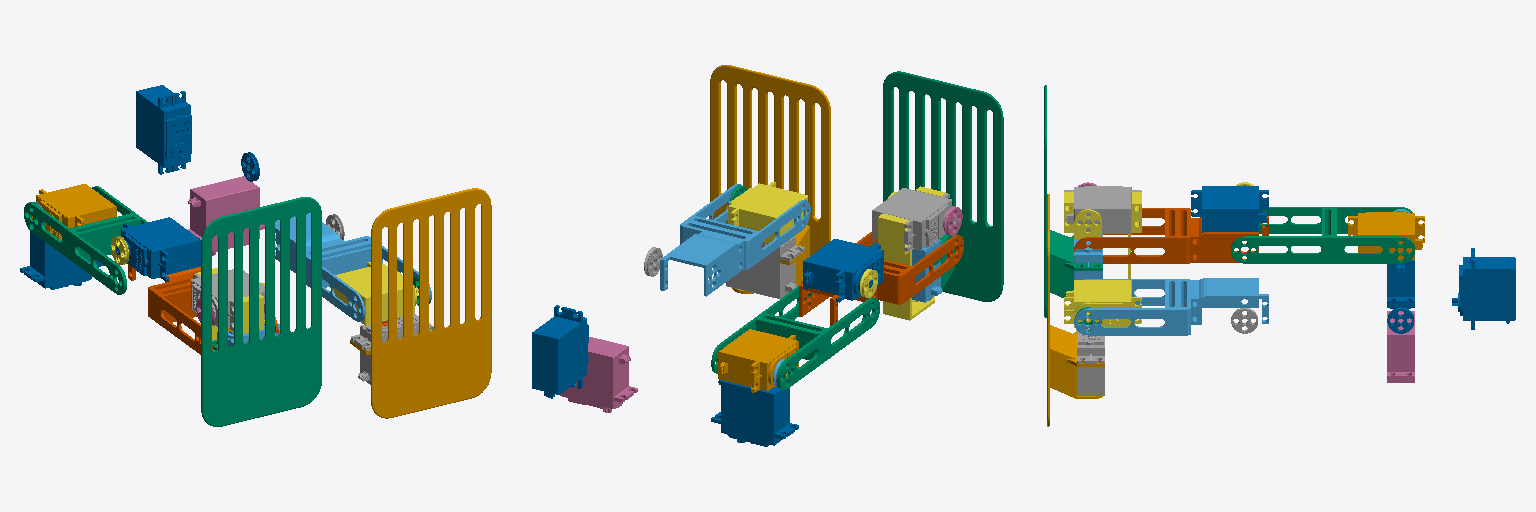
--- What the picture shows (computed from the rendered views, not written in the file) ---
The picture shows the robot from 3 angles, left to right: view 1: azimuth 30°, elevation 25°; view 2: azimuth 150°, elevation 25°; view 3: azimuth 270°, elevation 25°; orthographic projection.
Robot: COM — 37 links, 36 joints (12 revolute, 24 fixed); root link base_link; default pose: all joints at 0.
Links seen in each view (by area): view 1: puru_returns_Component1_mirror_v11, puru_returns_Component1_v21, New_Component_v21Component171, servo_v1_11, puru_returns_Component3_Copy_mirror_v11, servo_v1_51, servo_v1_31, puru_returns_Component3_Copy_v11, servo_v1_41, servo_v1_21, servo_v1_101, servo_v1_61 (+2 smaller); view 2: puru_returns_Component1_v21, puru_returns_Component1_mirror_v11, puru_returns_Component3_Copy_mirror_v11, New_Component_v21Component171, servo_v1_11, servo_v1_21, puru_returns_Component3_Copy_v11, servo_v1_51, servo_v1_41, servo_v1_31, servo_v1_61, servo_v1_101 (+3 smaller); view 3: puru_returns_Component3_Copy_mirror_v11, New_Component_v21Component171, puru_returns_Component3_Copy_v11, servo_v1_11, servo_v1_51, puru_returns_Component1_mirror_v11, puru_returns_Component1_v21, servo_v1_61, servo_v1_101, servo_v1_41, servo_v1_111, servo_v1_31 (+3 smaller).
Link boxes in pixels (x1=…): puru_returns_Component1_mirror_v11: x1=350, y1=188, x2=491, y2=418; puru_returns_Component1_v21: x1=201, y1=197, x2=321, y2=426; New_Component_v21Component171: x1=24, y1=186, x2=147, y2=294; servo_v1_11: x1=136, y1=85, x2=191, y2=174; puru_returns_Component3_Copy_mirror_v11: x1=275, y1=213, x2=431, y2=321; servo_v1_51: x1=116, y1=217, x2=200, y2=280; servo_v1_31: x1=188, y1=176, x2=264, y2=255; puru_returns_Component3_Copy_v11: x1=128, y1=264, x2=278, y2=354; servo_v1_41: x1=31, y1=184, x2=116, y2=240; servo_v1_21: x1=20, y1=231, x2=103, y2=289; servo_v1_101: x1=334, y1=262, x2=418, y2=325; servo_v1_61: x1=191, y1=269, x2=264, y2=330; puru_returns_Component1_v21: x1=870, y1=71, x2=1003, y2=301; puru_returns_Component1_mirror_v11: x1=710, y1=65, x2=830, y2=293; puru_returns_Component3_Copy_mirror_v11: x1=660, y1=184, x2=810, y2=296; New_Component_v21Component171: x1=711, y1=286, x2=879, y2=389; servo_v1_11: x1=532, y1=305, x2=588, y2=398; servo_v1_21: x1=711, y1=380, x2=798, y2=446; puru_returns_Component3_Copy_v11: x1=799, y1=232, x2=963, y2=325; servo_v1_51: x1=803, y1=239, x2=883, y2=302; servo_v1_41: x1=718, y1=329, x2=798, y2=392; servo_v1_31: x1=560, y1=337, x2=637, y2=412; servo_v1_61: x1=872, y1=188, x2=956, y2=251; servo_v1_101: x1=728, y1=182, x2=807, y2=243; puru_returns_Component3_Copy_mirror_v11: x1=1074, y1=278, x2=1268, y2=335; New_Component_v21Component171: x1=1231, y1=207, x2=1414, y2=263; puru_returns_Component3_Copy_v11: x1=1074, y1=208, x2=1268, y2=263; servo_v1_11: x1=1452, y1=248, x2=1515, y2=329; servo_v1_51: x1=1191, y1=185, x2=1268, y2=232; puru_returns_Component1_mirror_v11: x1=1047, y1=194, x2=1104, y2=426; puru_returns_Component1_v21: x1=1044, y1=85, x2=1102, y2=317; servo_v1_61: x1=1064, y1=186, x2=1141, y2=233; servo_v1_101: x1=1064, y1=280, x2=1141, y2=327; servo_v1_41: x1=1348, y1=212, x2=1424, y2=259; servo_v1_111: x1=1077, y1=328, x2=1104, y2=395; servo_v1_31: x1=1387, y1=311, x2=1414, y2=382.
Size in the robot's own frame: 0.2179 by 0.3312 by 0.1744 metres.
23 mesh visuals loaded from 37 distinct referenced files (23 binary STL); not drawn: 14 (reference not matched to a file when rendering).

robot.urdf — COM:
<?xml version="1.0" ?>
<robot name="COM">

<material name="silver">
  <color rgba="0.700 0.700 0.700 1.000"/>
</material>

<link name="base_link">
  <inertial>
    <origin rpy="0 0 0" xyz="0.049426872993293534 -0.05856788394564916 0.014469977603933622"/>
    <mass value="6.087495213581755"/>
    <inertia ixx="0.01478590284265107" ixy="-0.00011943604355989582" ixz="4.0528118599583024e-05" iyy="0.027826181686333544" iyz="0.0006996436301212553" izz="0.03368371018690616"/>
  </inertial>
  <visual>
    <origin rpy="0 0 0" xyz="0 0 0"/>
    <geometry>
      <mesh filename="meshes/base_link.stl" scale="0.001 0.001 0.001"/>
    </geometry>
    <material name="silver"/>
    <material/>
  </visual>
  <collision concave="yes">
    <origin rpy="0 0 0" xyz="0 0 0"/>
    <geometry>
      <mesh filename="meshes/base_link.stl" scale="0.001 0.001 0.001"/>
    </geometry>
  </collision>
</link>

<link name="darwin_SP0-5_Dfaut_v1_11">
  <inertial>
    <origin rpy="0 0 0" xyz="-3.801167810790762e-07 0.0014997351662962843 -7.013422203064335e-08"/>
    <mass value="0.00403268334001312"/>
    <inertia ixx="9.40413563103198e-08" ixy="0.0" ixz="1.6940658945086007e-21" iyy="1.8171957172162913e-07" iyz="-1.8295911660692887e-19" izz="9.404135767055984e-08"/>
  </inertial>
  <visual>
    <origin rpy="0 0 0" xyz="-0.099046 0.153968 -0.021175"/>
    <geometry>
      <mesh filename="meshes/darwin_SP0-5_Dfaut_v1_11.stl" scale="0.001 0.001 0.001"/>
    </geometry>
    <material name="silver"/>
    <material/>
  </visual>
  <collision concave="yes">
    <origin rpy="0 0 0" xyz="-0.099046 0.153968 -0.021175"/>
    <geometry>
      <mesh filename="meshes/darwin_SP0-5_Dfaut_v1_11.stl" scale="0.001 0.001 0.001"/>
    </geometry>
  </collision>
</link>

<link name="darwin_SP0-5_Dfaut_v11">
  <inertial>
    <origin rpy="0 0 0" xyz="-3.8011678041597816e-07 0.0014997329912126434 -7.013422255106039e-08"/>
    <mass value="0.00403268334001312"/>
    <inertia ixx="9.40413563103198e-08" ixy="0.0" ixz="1.852884572118782e-22" iyy="1.8171957172164184e-07" iyz="-1.7787691892340307e-19" izz="9.404135767061405e-08"/>
  </inertial>
  <visual>
    <origin rpy="0 0 0" xyz="0.000954 0.153968 -0.021175"/>
    <geometry>
      <mesh filename="meshes/darwin_SP0-5_Dfaut_v11.stl" scale="0.001 0.001 0.001"/>
    </geometry>
    <material name="silver"/>
    <material/>
  </visual>
  <collision concave="yes">
    <origin rpy="0 0 0" xyz="0.000954 0.153968 -0.021175"/>
    <geometry>
      <mesh filename="meshes/darwin_SP0-5_Dfaut_v11.stl" scale="0.001 0.001 0.001"/>
    </geometry>
  </collision>
</link>

<link name="darwin_SP0-5_Dfaut_v1_21">
  <inertial>
    <origin rpy="0 0 0" xyz="-0.006000380116780482 2.337932812623844e-07 0.0015001048247358859"/>
    <mass value="0.00403268334001312"/>
    <inertia ixx="9.404135631029269e-08" ixy="-2.117582368135751e-22" ixz="0.0" iyy="9.404135767058864e-08" iyz="-1.7957098481791167e-19" izz="1.8171957172168334e-07"/>
  </inertial>
  <visual>
    <origin rpy="0 0 0" xyz="-0.005046 0.1896 0.034899"/>
    <geometry>
      <mesh filename="meshes/darwin_SP0-5_Dfaut_v1_21.stl" scale="0.001 0.001 0.001"/>
    </geometry>
    <material name="silver"/>
    <material/>
  </visual>
  <collision concave="yes">
    <origin rpy="0 0 0" xyz="-0.005046 0.1896 0.034899"/>
    <geometry>
      <mesh filename="meshes/darwin_SP0-5_Dfaut_v1_21.stl" scale="0.001 0.001 0.001"/>
    </geometry>
  </collision>
</link>

<link name="servo_v1_21">
  <inertial>
    <origin rpy="0 0 0" xyz="-0.009021322027019007 -0.03189873611224242 0.21507652859351006"/>
    <mass value="0.2525811539773393"/>
    <inertia ixx="4.0628291142298656e-05" ixy="-8.622513412905736e-11" ixz="5.060799491813541e-07" iyy="6.818318895881881e-05" iyz="3.2885922956159275e-10" izz="4.40963468847852e-05"/>
  </inertial>
  <visual>
    <origin rpy="0 0 0" xyz="0.001909 0.157701 0.222999"/>
    <geometry>
      <mesh filename="meshes/servo_v1_21.stl" scale="0.001 0.001 0.001"/>
    </geometry>
    <material name="silver"/>
    <material/>
  </visual>
  <collision concave="yes">
    <origin rpy="0 0 0" xyz="0.001909 0.157701 0.222999"/>
    <geometry>
      <mesh filename="meshes/servo_v1_21.stl" scale="0.001 0.001 0.001"/>
    </geometry>
  </collision>
</link>

<link name="darwin_SP0-5_Dfaut_v1_31">
  <inertial>
    <origin rpy="0 0 0" xyz="-0.006000380116781057 2.359683649033606e-07 0.0015001048247363091"/>
    <mass value="0.00403268334001312"/>
    <inertia ixx="9.404135631026558e-08" ixy="0.0" ixz="0.0" iyy="9.404135767058694e-08" iyz="-1.7618285302889447e-19" izz="1.8171957172165624e-07"/>
  </inertial>
  <visual>
    <origin rpy="0 0 0" xyz="-0.105046 0.1896 0.034899"/>
    <geometry>
      <mesh filename="meshes/darwin_SP0-5_Dfaut_v1_31.stl" scale="0.001 0.001 0.001"/>
    </geometry>
    <material name="silver"/>
    <material/>
  </visual>
  <collision concave="yes">
    <origin rpy="0 0 0" xyz="-0.105046 0.1896 0.034899"/>
    <geometry>
      <mesh filename="meshes/darwin_SP0-5_Dfaut_v1_31.stl" scale="0.001 0.001 0.001"/>
    </geometry>
  </collision>
</link>

<link name="servo_v1_31">
  <inertial>
    <origin rpy="0 0 0" xyz="-0.08906943820654246 -0.03189879412565988 0.21332652859351048"/>
    <mass value="0.2525811539773393"/>
    <inertia ixx="4.062829114230039e-05" ixy="-8.62251338037967e-11" ixz="-5.060799491814422e-07" iyy="6.818318895881852e-05" iyz="-3.288592298326433e-10" izz="4.40963468847852e-05"/>
  </inertial>
  <visual>
    <origin rpy="0 0 0" xyz="-0.198091 0.157701 0.222999"/>
    <geometry>
      <mesh filename="meshes/servo_v1_31.stl" scale="0.001 0.001 0.001"/>
    </geometry>
    <material name="silver"/>
    <material/>
  </visual>
  <collision concave="yes">
    <origin rpy="0 0 0" xyz="-0.198091 0.157701 0.222999"/>
    <geometry>
      <mesh filename="meshes/servo_v1_31.stl" scale="0.001 0.001 0.001"/>
    </geometry>
  </collision>
</link>

<link name="New_comp_v31">
  <inertial>
    <origin rpy="0 0 0" xyz="0.02712760280916824 -0.00739501977821197 0.025150828643777975"/>
    <mass value="0.09272661140293506"/>
    <inertia ixx="5.0412790144149875e-05" ixy="1.3253400060312694e-06" ixz="-5.403142625515372e-06" iyy="5.7509785676170845e-05" iyz="1.0330125334125529e-05" izz="4.581305763172146e-05"/>
  </inertial>
  <visual>
    <origin rpy="0 0 0" xyz="0.035532 0.18373 0.016839"/>
    <geometry>
      <mesh filename="meshes/New_comp_v31.stl" scale="0.001 0.001 0.001"/>
    </geometry>
    <material name="silver"/>
    <material/>
  </visual>
  <collision concave="yes">
    <origin rpy="0 0 0" xyz="0.035532 0.18373 0.016839"/>
    <geometry>
      <mesh filename="meshes/New_comp_v31.stl" scale="0.001 0.001 0.001"/>
    </geometry>
  </collision>
</link>

<link name="servo_v1_41">
  <inertial>
    <origin rpy="0 0 0" xyz="0.008916028988444513 -0.024198637539689233 -0.005869710576260234"/>
    <mass value="0.2525811539773393"/>
    <inertia ixx="4.409634688478346e-05" ixy="5.060799491812796e-07" ixz="3.288592297038943e-10" iyy="4.062829114230028e-05" iyz="-8.622513467115844e-11" izz="6.818318895881678e-05"/>
  </inertial>
  <visual>
    <origin rpy="0 0 0" xyz="0.017839 0.175379 -0.028206"/>
    <geometry>
      <mesh filename="meshes/servo_v1_41.stl" scale="0.001 0.001 0.001"/>
    </geometry>
    <material name="silver"/>
    <material/>
  </visual>
  <collision concave="yes">
    <origin rpy="0 0 0" xyz="0.017839 0.175379 -0.028206"/>
    <geometry>
      <mesh filename="meshes/servo_v1_41.stl" scale="0.001 0.001 0.001"/>
    </geometry>
  </collision>
</link>

<link name="darwin_SP0-5_Dfaut_v1_41">
  <inertial>
    <origin rpy="0 0 0" xyz="-0.03376639478032952 -0.023971695629450396 -0.18960174067028493"/>
    <mass value="0.00403268334001312"/>
    <inertia ixx="1.8171957172165624e-07" ixy="0.0" ixz="-1.7745340244977592e-19" iyy="9.404135631031302e-08" iyz="0.0" izz="9.404135767061405e-08"/>
  </inertial>
  <visual>
    <origin rpy="0 0 0" xyz="-0.002117 0.16563 -0.211938"/>
    <geometry>
      <mesh filename="meshes/darwin_SP0-5_Dfaut_v1_41.stl" scale="0.001 0.001 0.001"/>
    </geometry>
    <material name="silver"/>
    <material/>
  </visual>
  <collision concave="yes">
    <origin rpy="0 0 0" xyz="-0.002117 0.16563 -0.211938"/>
    <geometry>
      <mesh filename="meshes/darwin_SP0-5_Dfaut_v1_41.stl" scale="0.001 0.001 0.001"/>
    </geometry>
  </collision>
</link>

<link name="New_Component_v21Component171">
  <inertial>
    <origin rpy="0 0 0" xyz="0.022246779577698293 -0.05224965878978241 0.005981862948394902"/>
    <mass value="0.12057690606604259"/>
    <inertia ixx="9.059967566987966e-05" ixy="-3.3675587649521646e-07" ixz="5.060593844609428e-11" iyy="5.5083470425859116e-05" iyz="-1.2191716247753753e-07" izz="0.0001364974799907331"/>
  </inertial>
  <visual>
    <origin rpy="0 0 0" xyz="0.033149 0.189602 -0.016336"/>
    <geometry>
      <mesh filename="meshes/New_Component_v21Component171.stl" scale="0.001 0.001 0.001"/>
    </geometry>
    <material name="silver"/>
    <material/>
  </visual>
  <collision concave="yes">
    <origin rpy="0 0 0" xyz="0.033149 0.189602 -0.016336"/>
    <geometry>
      <mesh filename="meshes/New_Component_v21Component171.stl" scale="0.001 0.001 0.001"/>
    </geometry>
  </collision>
</link>

<link name="darwin_SP0-5_Dfaut_v1_51">
  <inertial>
    <origin rpy="0 0 0" xyz="-0.36413539478033113 0.0027047156136809636 -0.03314892098945918"/>
    <mass value="0.00403268334001312"/>
    <inertia ixx="1.8171957172162913e-07" ixy="1.7618285302889447e-19" ixz="4.235164736271502e-22" iyy="9.404135767058779e-08" iyz="-3.3881317890172014e-21" izz="9.404135631026558e-08"/>
  </inertial>
  <visual>
    <origin rpy="0 0 0" xyz="-0.332486 0.302115 -0.055444"/>
    <geometry>
      <mesh filename="meshes/darwin_SP0-5_Dfaut_v1_51.stl" scale="0.001 0.001 0.001"/>
    </geometry>
    <material name="silver"/>
    <material/>
  </visual>
  <collision concave="yes">
    <origin rpy="0 0 0" xyz="-0.332486 0.302115 -0.055444"/>
    <geometry>
      <mesh filename="meshes/darwin_SP0-5_Dfaut_v1_51.stl" scale="0.001 0.001 0.001"/>
    </geometry>
  </collision>
</link>

<link name="servo_v1_51">
  <inertial>
    <origin rpy="0 0 0" xyz="-0.27568397101155717 0.01231877370366774 0.030149109104791173"/>
    <mass value="0.2525811539773393"/>
    <inertia ixx="4.409634688478173e-05" ixy="5.060799491812254e-07" ixz="3.288592297174468e-10" iyy="4.062829114230023e-05" iyz="-8.622513445431801e-11" izz="6.818318895881331e-05"/>
  </inertial>
  <visual>
    <origin rpy="0 0 0" xyz="-0.267761 0.321705 0.007854"/>
    <geometry>
      <mesh filename="meshes/servo_v1_51.stl" scale="0.001 0.001 0.001"/>
    </geometry>
    <material name="silver"/>
    <material/>
  </visual>
  <collision concave="yes">
    <origin rpy="0 0 0" xyz="-0.267761 0.321705 0.007854"/>
    <geometry>
      <mesh filename="meshes/servo_v1_51.stl" scale="0.001 0.001 0.001"/>
    </geometry>
  </collision>
</link>

<link name="puru_returns_Component3_Copy_v11">
  <inertial>
    <origin rpy="0 0 0" xyz="0.011234750223060534 -0.058052157312893204 -0.004671568209335092"/>
    <mass value="0.18510629044043106"/>
    <inertia ixx="0.00012398617807460321" ixy="-1.4689737333858054e-05" ixz="-8.602094731073629e-07" iyy="5.9023273681416905e-05" iyz="-7.755929246309589e-06" izz="0.0001667725633965854"/>
  </inertial>
  <visual>
    <origin rpy="0 0 0" xyz="0.016839 0.285188 -0.028165"/>
    <geometry>
      <mesh filename="meshes/puru_returns_Component3_Copy_v11.stl" scale="0.001 0.001 0.001"/>
    </geometry>
    <material name="silver"/>
    <material/>
  </visual>
  <collision concave="yes">
    <origin rpy="0 0 0" xyz="0.016839 0.285188 -0.028165"/>
    <geometry>
      <mesh filename="meshes/puru_returns_Component3_Copy_v11.stl" scale="0.001 0.001 0.001"/>
    </geometry>
  </collision>
</link>

<link name="darwin_SP0-5_Dfaut_v1_61">
  <inertial>
    <origin rpy="0 0 0" xyz="0.001499876807576947 -0.006000284386093402 7.901076473290636e-08"/>
    <mass value="0.00403268334001312"/>
    <inertia ixx="1.8171957172157492e-07" ixy="0.0" ixz="-1.7702988597614877e-19" iyy="9.404135631031302e-08" iyz="0.0" izz="9.404135767061405e-08"/>
  </inertial>
  <visual>
    <origin rpy="0 0 0" xyz="0.032695 0.40341 -0.022295"/>
    <geometry>
      <mesh filename="meshes/darwin_SP0-5_Dfaut_v1_61.stl" scale="0.001 0.001 0.001"/>
    </geometry>
    <material name="silver"/>
    <material/>
  </visual>
  <collision concave="yes">
    <origin rpy="0 0 0" xyz="0.032695 0.40341 -0.022295"/>
    <geometry>
      <mesh filename="meshes/darwin_SP0-5_Dfaut_v1_61.stl" scale="0.001 0.001 0.001"/>
    </geometry>
  </collision>
</link>

<link name="servo_v1_61">
  <inertial>
    <origin rpy="0 0 0" xyz="-0.3856836994236488 0.03967065752414539 -0.022294951083711257"/>
    <mass value="0.2525811539773393"/>
    <inertia ixx="4.409634688479214e-05" ixy="-5.060799491815506e-07" ixz="-3.2885922975132813e-10" iyy="4.0628291142300336e-05" iyz="-8.622513423747757e-11" izz="6.818318895882025e-05"/>
  </inertial>
  <visual>
    <origin rpy="0 0 0" xyz="-0.378215 0.439105 -0.04459"/>
    <geometry>
      <mesh filename="meshes/servo_v1_61.stl" scale="0.001 0.001 0.001"/>
    </geometry>
    <material name="silver"/>
    <material/>
  </visual>
  <collision concave="yes">
    <origin rpy="0 0 0" xyz="-0.378215 0.439105 -0.04459"/>
    <geometry>
      <mesh filename="meshes/servo_v1_61.stl" scale="0.001 0.001 0.001"/>
    </geometry>
  </collision>
</link>

<link name="darwin_SP0-5_Dfaut_v1_71">
  <inertial>
    <origin rpy="0 0 0" xyz="0.00038487680757666454 0.021705000834289667 -0.4279639209894614"/>
    <mass value="0.00403268334001312"/>
    <inertia ixx="9.404135631015716e-08" ixy="0.0" ixz="1.2970192004831474e-21" iyy="9.40413576705879e-08" iyz="-1.7787691892340307e-19" izz="1.817195717214665e-07"/>
  </inertial>
  <visual>
    <origin rpy="0 0 0" xyz="0.00677 0.430926 -0.435759"/>
    <geometry>
      <mesh filename="meshes/darwin_SP0-5_Dfaut_v1_71.stl" scale="0.001 0.001 0.001"/>
    </geometry>
    <material name="silver"/>
    <material/>
  </visual>
  <collision concave="yes">
    <origin rpy="0 0 0" xyz="0.00677 0.430926 -0.435759"/>
    <geometry>
      <mesh filename="meshes/darwin_SP0-5_Dfaut_v1_71.stl" scale="0.001 0.001 0.001"/>
    </geometry>
  </collision>
</link>

<link name="servo_v1_71">
  <inertial>
    <origin rpy="0 0 0" xyz="0.016360818717814467 -0.006294969071685641 -0.4329473447582359"/>
    <mass value="0.2525811539773393"/>
    <inertia ixx="4.0628291142298656e-05" ixy="8.622513450852812e-11" ixz="5.060799491814541e-07" iyy="6.818318895881896e-05" iyz="-3.288592291279119e-10" izz="4.40963468847852e-05"/>
  </inertial>
  <visual>
    <origin rpy="0 0 0" xyz="0.01277 0.402926 -0.417016"/>
    <geometry>
      <mesh filename="meshes/servo_v1_71.stl" scale="0.001 0.001 0.001"/>
    </geometry>
    <material name="silver"/>
    <material/>
  </visual>
  <collision concave="yes">
    <origin rpy="0 0 0" xyz="0.01277 0.402926 -0.417016"/>
    <geometry>
      <mesh filename="meshes/servo_v1_71.stl" scale="0.001 0.001 0.001"/>
    </geometry>
  </collision>
</link>

<link name="puru_returns_Component1_v21">
  <inertial>
    <origin rpy="0 0 0" xyz="0.019640117668046936 -0.029622903107123566 0.008676213295834543"/>
    <mass value="0.3521119210080813"/>
    <inertia ixx="0.0004893447900749665" ixy="-9.162992041314037e-06" ixz="3.260397026410497e-05" iyy="0.0006151042459896072" iyz="4.178285998848036e-05" izz="0.00016656385625371528"/>
  </inertial>
  <visual>
    <origin rpy="0 0 0" xyz="0.020607 0.403351 0.007015"/>
    <geometry>
      <mesh filename="meshes/puru_returns_Component1_v21.stl" scale="0.001 0.001 0.001"/>
    </geometry>
    <material name="silver"/>
    <material/>
  </visual>
  <collision concave="yes">
    <origin rpy="0 0 0" xyz="0.020607 0.403351 0.007015"/>
    <geometry>
      <mesh filename="meshes/puru_returns_Component1_v21.stl" scale="0.001 0.001 0.001"/>
    </geometry>
  </collision>
</link>

<link name="testing_Component2_Copy_v11Component241">
  <inertial>
    <origin rpy="0 0 0" xyz="0.011606467111240991 -0.021211426059386862 -0.023255550187149806"/>
    <mass value="0.08459587295154185"/>
    <inertia ixx="7.33898105327764e-05" ixy="1.7503980058993852e-06" ixz="-1.594223482162464e-06" iyy="4.7167946061174216e-05" iyz="6.93387997592257e-06" izz="3.606465845162714e-05"/>
  </inertial>
  <visual>
    <origin rpy="0 0 0" xyz="0.016385 0.374833 -0.02817"/>
    <geometry>
      <mesh filename="meshes/testing_Component2_Copy_v11Component241.stl" scale="0.001 0.001 0.001"/>
    </geometry>
    <material name="silver"/>
    <material/>
  </visual>
  <collision concave="yes">
    <origin rpy="0 0 0" xyz="0.016385 0.374833 -0.02817"/>
    <geometry>
      <mesh filename="meshes/testing_Component2_Copy_v11Component241.stl" scale="0.001 0.001 0.001"/>
    </geometry>
  </collision>
</link>

<link name="darwin_SP0-5_Dfaut_v1_81">
  <inertial>
    <origin rpy="0 0 0" xyz="-0.0015003654532318444 -1.8643558619135803e-07 -2.476895162237258e-07"/>
    <mass value="0.00403268334001312"/>
    <inertia ixx="1.8171957172162913e-07" ixy="0.0" ixz="-1.7448878713438587e-19" iyy="9.404135631030624e-08" iyz="3.3881317890172014e-21" izz="9.404135767047852e-08"/>
  </inertial>
  <visual>
    <origin rpy="0 0 0" xyz="-0.129861 0.189597 -0.020582"/>
    <geometry>
      <mesh filename="meshes/darwin_SP0-5_Dfaut_v1_81.stl" scale="0.001 0.001 0.001"/>
    </geometry>
    <material name="silver"/>
    <material/>
  </visual>
  <collision concave="yes">
    <origin rpy="0 0 0" xyz="-0.129861 0.189597 -0.020582"/>
    <geometry>
      <mesh filename="meshes/darwin_SP0-5_Dfaut_v1_81.stl" scale="0.001 0.001 0.001"/>
    </geometry>
  </collision>
</link>

<link name="New_comp_mirror_v11">
  <inertial>
    <origin rpy="0 0 0" xyz="-0.027127363042730376 -0.007395510584347703 0.02515082864377812"/>
    <mass value="0.09272661140293512"/>
    <inertia ixx="5.0412790144126456e-05" ixy="-1.3253400060315133e-06" ixz="5.403142625535069e-06" iyy="5.750978567617892e-05" iyz="1.0330125334118007e-05" izz="4.5813057631740976e-05"/>
  </inertial>
  <visual>
    <origin rpy="0 0 0" xyz="-0.133623 0.183725 0.018589"/>
    <geometry>
      <mesh filename="meshes/New_comp_mirror_v11.stl" scale="0.001 0.001 0.001"/>
    </geometry>
    <material name="silver"/>
    <material/>
  </visual>
  <collision concave="yes">
    <origin rpy="0 0 0" xyz="-0.133623 0.183725 0.018589"/>
    <geometry>
      <mesh filename="meshes/New_comp_mirror_v11.stl" scale="0.001 0.001 0.001"/>
    </geometry>
  </collision>
</link>

<link name="servo_v1_81">
  <inertial>
    <origin rpy="0 0 0" xyz="-0.011296789222006262 -0.024198128345824715 0.005869722216458744"/>
    <mass value="0.2525811539773393"/>
    <inertia ixx="4.409634688478346e-05" ixy="-5.060799491826348e-07" ixz="3.2885922967001296e-10" iyy="4.0628291142300824e-05" iyz="8.62251338037967e-11" izz="6.818318895881505e-05"/>
  </inertial>
  <visual>
    <origin rpy="0 0 0" xyz="-0.115931 0.175375 -0.014712"/>
    <geometry>
      <mesh filename="meshes/servo_v1_81.stl" scale="0.001 0.001 0.001"/>
    </geometry>
    <material name="silver"/>
    <material/>
  </visual>
  <collision concave="yes">
    <origin rpy="0 0 0" xyz="-0.115931 0.175375 -0.014712"/>
    <geometry>
      <mesh filename="meshes/servo_v1_81.stl" scale="0.001 0.001 0.001"/>
    </geometry>
  </collision>
</link>

<link name="darwin_SP0-5_Dfaut_v1_91">
  <inertial>
    <origin rpy="0 0 0" xyz="-0.3275163654532336 -0.32797477519245566 0.24334057199176104"/>
    <mass value="0.00403268334001312"/>
    <inertia ixx="1.8171957172168334e-07" ixy="1.8973538018496328e-19" ixz="0.0" iyy="9.404135767057339e-08" iyz="0.0" izz="9.404135631026558e-08"/>
  </inertial>
  <visual>
    <origin rpy="0 0 0" xyz="-0.455877 -0.028569 0.2228"/>
    <geometry>
      <mesh filename="meshes/darwin_SP0-5_Dfaut_v1_91.stl" scale="0.001 0.001 0.001"/>
    </geometry>
    <material name="silver"/>
    <material/>
  </visual>
  <collision concave="yes">
    <origin rpy="0 0 0" xyz="-0.455877 -0.028569 0.2228"/>
    <geometry>
      <mesh filename="meshes/darwin_SP0-5_Dfaut_v1_91.stl" scale="0.001 0.001 0.001"/>
    </geometry>
  </collision>
</link>

<link name="servo_v1_91">
  <inertial>
    <origin rpy="0 0 0" xyz="-0.32313178922200786 0.010564282897531752 -0.12686045810248975"/>
    <mass value="0.2525811539773393"/>
    <inertia ixx="4.409634688477826e-05" ixy="-5.060799491817675e-07" ixz="3.288592297784332e-10" iyy="4.062829114230039e-05" iyz="8.622513358695627e-11" izz="6.818318895881678e-05"/>
  </inertial>
  <visual>
    <origin rpy="0 0 0" xyz="-0.427766 0.319946 -0.147401"/>
    <geometry>
      <mesh filename="meshes/servo_v1_91.stl" scale="0.001 0.001 0.001"/>
    </geometry>
    <material name="silver"/>
    <material/>
  </visual>
  <collision concave="yes">
    <origin rpy="0 0 0" xyz="-0.427766 0.319946 -0.147401"/>
    <geometry>
      <mesh filename="meshes/servo_v1_91.stl" scale="0.001 0.001 0.001"/>
    </geometry>
  </collision>
</link>

<link name="puru_returns_Component3_Copy_mirror_v11">
  <inertial>
    <origin rpy="0 0 0" xyz="-0.011235510456626366 -0.058051648119028465 0.007072431790665291"/>
    <mass value="0.1851062904404302"/>
    <inertia ixx="0.00012398617807459975" ixy="1.4689737333855452e-05" ixz="8.602094731067632e-07" iyy="5.9023273681409194e-05" iyz="-7.755929246310023e-06" izz="0.00016677256339666865"/>
  </inertial>
  <visual>
    <origin rpy="0 0 0" xyz="-0.113551 0.285184 -0.014671"/>
    <geometry>
      <mesh filename="meshes/puru_returns_Component3_Copy_mirror_v11.stl" scale="0.001 0.001 0.001"/>
    </geometry>
    <material name="silver"/>
    <material/>
  </visual>
  <collision concave="yes">
    <origin rpy="0 0 0" xyz="-0.113551 0.285184 -0.014671"/>
    <geometry>
      <mesh filename="meshes/puru_returns_Component3_Copy_mirror_v11.stl" scale="0.001 0.001 0.001"/>
    </geometry>
  </collision>
</link>

<link name="darwin_SP0-5_Dfaut_v1_111">
  <inertial>
    <origin rpy="0 0 0" xyz="0.7741723629588548 0.010455224807544905 -0.12940592098946038"/>
    <mass value="0.00403268334001312"/>
    <inertia ixx="1.8171957172168334e-07" ixy="1.6263032587282567e-19" ixz="0.0" iyy="9.404135767057339e-08" iyz="0.0" izz="9.4041356310374e-08"/>
  </inertial>
  <visual>
    <origin rpy="0 0 0" xyz="0.646266 0.419861 -0.149951"/>
    <geometry>
      <mesh filename="meshes/darwin_SP0-5_Dfaut_v1_111.stl" scale="0.001 0.001 0.001"/>
    </geometry>
    <material name="silver"/>
    <material/>
  </visual>
  <collision concave="yes">
    <origin rpy="0 0 0" xyz="0.646266 0.419861 -0.149951"/>
    <geometry>
      <mesh filename="meshes/darwin_SP0-5_Dfaut_v1_111.stl" scale="0.001 0.001 0.001"/>
    </geometry>
  </collision>
</link>

<link name="servo_v1_101">
  <inertial>
    <origin rpy="0 0 0" xyz="-0.025226060809919 0.00997616671800916 1.0910479022671615e-07"/>
    <mass value="0.2525811539773393"/>
    <inertia ixx="4.409634688477826e-05" ixy="5.060799491800327e-07" ixz="-3.288592297784332e-10" iyy="4.062829114229952e-05" iyz="8.62251338037967e-11" izz="6.818318895882719e-05"/>
  </inertial>
  <visual>
    <origin rpy="0 0 0" xyz="-0.126406 0.409406 -0.020545"/>
    <geometry>
      <mesh filename="meshes/servo_v1_101.stl" scale="0.001 0.001 0.001"/>
    </geometry>
    <material name="silver"/>
    <material/>
  </visual>
  <collision concave="yes">
    <origin rpy="0 0 0" xyz="-0.126406 0.409406 -0.020545"/>
    <geometry>
      <mesh filename="meshes/servo_v1_101.stl" scale="0.001 0.001 0.001"/>
    </geometry>
  </collision>
</link>

<link name="testing_Component2__mirror_v11">
  <inertial>
    <origin rpy="0 0 0" xyz="-0.011606227199133928 -0.021211640035304957 -0.023255518915233538"/>
    <mass value="0.08459586965507518"/>
    <inertia ixx="7.33898094806458e-05" ixy="-1.7503980014681696e-06" ixz="1.5942234281329746e-06" iyy="4.716794569811539e-05" iyz="6.9338799705697014e-06" izz="3.606465715294202e-05"/>
  </inertial>
  <visual>
    <origin rpy="0 0 0" xyz="-0.110096 0.373113 -0.027627"/>
    <geometry>
      <mesh filename="meshes/testing_Component2__mirror_v11.stl" scale="0.001 0.001 0.001"/>
    </geometry>
    <material name="silver"/>
    <material/>
  </visual>
  <collision concave="yes">
    <origin rpy="0 0 0" xyz="-0.110096 0.373113 -0.027627"/>
    <geometry>
      <mesh filename="meshes/testing_Component2__mirror_v11.stl" scale="0.001 0.001 0.001"/>
    </geometry>
  </collision>
</link>

<link name="darwin_SP0-5_Dfaut_v1_121">
  <inertial>
    <origin rpy="0 0 0" xyz="0.047283362959080324 0.022247786844133033 -0.4262448895467025"/>
    <mass value="0.00403268334001312"/>
    <inertia ixx="9.404135767061405e-08" ixy="0.0" ixz="-1.7575933655526732e-19" iyy="9.40413563103198e-08" iyz="0.0" izz="1.8171957172168334e-07"/>
  </inertial>
  <visual>
    <origin rpy="0 0 0" xyz="-0.052813 0.429749 -0.433497"/>
    <geometry>
      <mesh filename="meshes/darwin_SP0-5_Dfaut_v1_121.stl" scale="0.001 0.001 0.001"/>
    </geometry>
    <material name="silver"/>
    <material/>
  </visual>
  <collision concave="yes">
    <origin rpy="0 0 0" xyz="-0.052813 0.429749 -0.433497"/>
    <geometry>
      <mesh filename="meshes/darwin_SP0-5_Dfaut_v1_121.stl" scale="0.001 0.001 0.001"/>
    </geometry>
  </collision>
</link>

<link name="New_Component_v2_11Component311">
  <inertial>
    <origin rpy="0 0 0" xyz="-0.02475319109520406 -0.05825014959591793 -1.864407038499813e-05"/>
    <mass value="0.12057690606604259"/>
    <inertia ixx="9.059967566987879e-05" ixy="-3.3675587649559593e-07" ixz="5.0605938493528124e-11" iyy="5.5083470425859116e-05" iyz="-1.219171624773207e-07" izz="0.00013649747999073744"/>
  </inertial>
  <visual>
    <origin rpy="0 0 0" xyz="-0.129861 0.183597 -0.020582"/>
    <geometry>
      <mesh filename="meshes/New_Component_v2_11Component311.stl" scale="0.001 0.001 0.001"/>
    </geometry>
    <material name="silver"/>
    <material/>
  </visual>
  <collision concave="yes">
    <origin rpy="0 0 0" xyz="-0.129861 0.183597 -0.020582"/>
    <geometry>
      <mesh filename="meshes/New_Component_v2_11Component311.stl" scale="0.001 0.001 0.001"/>
    </geometry>
  </collision>
</link>

<link name="servo_v1_111">
  <inertial>
    <origin rpy="0 0 0" xyz="0.0042243048690926155 0.10009681693838324 -0.43222731331547687"/>
    <mass value="0.2525811539773393"/>
    <inertia ixx="4.062829114229172e-05" ixy="8.622513293643497e-11" ixz="5.060799491814422e-07" iyy="6.818318895881895e-05" iyz="-3.2885922956159275e-10" izz="4.409634688477826e-05"/>
  </inertial>
  <visual>
    <origin rpy="0 0 0" xyz="-0.105848 0.507598 -0.414753"/>
    <geometry>
      <mesh filename="meshes/servo_v1_111.stl" scale="0.001 0.001 0.001"/>
    </geometry>
    <material name="silver"/>
    <material/>
  </visual>
  <collision concave="yes">
    <origin rpy="0 0 0" xyz="-0.105848 0.507598 -0.414753"/>
    <geometry>
      <mesh filename="meshes/servo_v1_111.stl" scale="0.001 0.001 0.001"/>
    </geometry>
  </collision>
</link>

<link name="puru_returns_Component1_mirror_v11">
  <inertial>
    <origin rpy="0 0 0" xyz="-0.019640337084408696 -0.029623117097054508 0.006176244738592365"/>
    <mass value="0.3521119210080811"/>
    <inertia ixx="0.0004893447900749665" ixy="9.162992041324147e-06" ixz="-3.260397026411527e-05" iyy="0.0006151042459895941" iyz="4.178285998847895e-05" izz="0.0001665638562537014"/>
  </inertial>
  <visual>
    <origin rpy="0 0 0" xyz="-0.134674 0.401631 0.008558"/>
    <geometry>
      <mesh filename="meshes/puru_returns_Component1_mirror_v11.stl" scale="0.001 0.001 0.001"/>
    </geometry>
    <material name="silver"/>
    <material/>
  </visual>
  <collision concave="yes">
    <origin rpy="0 0 0" xyz="-0.134674 0.401631 0.008558"/>
    <geometry>
      <mesh filename="meshes/puru_returns_Component1_mirror_v11.stl" scale="0.001 0.001 0.001"/>
    </geometry>
  </collision>
</link>

<link name="puru_returns_Component6_v31">
  <inertial>
    <origin rpy="0 0 0" xyz="-3.8011681072690987e-07 -0.01223905275395426 -0.024406931418907093"/>
    <mass value="0.04702613835521159"/>
    <inertia ixx="4.9731123091806186e-05" ixy="-1.9148873838577968e-17" ixz="1.0794958456723227e-17" iyy="4.3118777716014306e-05" iyz="1.9201203024805783e-06" izz="9.5104111718005e-06"/>
  </inertial>
  <visual>
    <origin rpy="0 0 0" xyz="0.000954 0.153968 -0.027175"/>
    <geometry>
      <mesh filename="meshes/puru_returns_Component6_v31.stl" scale="0.001 0.001 0.001"/>
    </geometry>
    <material name="silver"/>
    <material/>
  </visual>
  <collision concave="yes">
    <origin rpy="0 0 0" xyz="0.000954 0.153968 -0.027175"/>
    <geometry>
      <mesh filename="meshes/puru_returns_Component6_v31.stl" scale="0.001 0.001 0.001"/>
    </geometry>
  </collision>
</link>

<link name="puru_returns_Component6_v3_11">
  <inertial>
    <origin rpy="0 0 0" xyz="-3.801168112632647e-07 -0.012239050578870758 -0.024406931418906555"/>
    <mass value="0.04702613835521159"/>
    <inertia ixx="4.97311230918064e-05" ixy="-1.919037845299343e-17" ixz="1.1047003698090585e-17" iyy="4.3118777716014286e-05" iyz="1.9201203024806393e-06" izz="9.510411171798116e-06"/>
  </inertial>
  <visual>
    <origin rpy="0 0 0" xyz="-0.099046 0.153968 -0.027175"/>
    <geometry>
      <mesh filename="meshes/puru_returns_Component6_v3_11.stl" scale="0.001 0.001 0.001"/>
    </geometry>
    <material name="silver"/>
    <material/>
  </visual>
  <collision concave="yes">
    <origin rpy="0 0 0" xyz="-0.099046 0.153968 -0.027175"/>
    <geometry>
      <mesh filename="meshes/puru_returns_Component6_v3_11.stl" scale="0.001 0.001 0.001"/>
    </geometry>
  </collision>
</link>

<link name="servo_v11">
  <inertial>
    <origin rpy="0 0 0" xyz="0.005874649977469771 0.008916156759986665 0.02460198795576473"/>
    <mass value="0.2525811539773393"/>
    <inertia ixx="6.818318895881938e-05" ixy="3.2885922973099934e-10" ixz="-8.622513409771714e-11" iyy="4.409634688478469e-05" iyz="5.060799491813338e-07" izz="4.062829114230039e-05"/>
  </inertial>
  <visual>
    <origin rpy="0 0 0" xyz="0.006829 0.137658 0.013403"/>
    <geometry>
      <mesh filename="meshes/servo_v11.stl" scale="0.001 0.001 0.001"/>
    </geometry>
    <material name="silver"/>
    <material/>
  </visual>
  <collision concave="yes">
    <origin rpy="0 0 0" xyz="0.006829 0.137658 0.013403"/>
    <geometry>
      <mesh filename="meshes/servo_v11.stl" scale="0.001 0.001 0.001"/>
    </geometry>
  </collision>
</link>

<link name="servo_v1_11">
  <inertial>
    <origin rpy="0 0 0" xyz="-0.005870408176834638 0.008916411148642445 0.024601889094953068"/>
    <mass value="0.25257832542625036"/>
    <inertia ixx="6.818153594926896e-05" ixy="-2.763379802761534e-12" ixz="4.393122291727197e-11" iyy="4.409603015031538e-05" iyz="5.055183367479632e-07" izz="4.062675597017989e-05"/>
  </inertial>
  <visual>
    <origin rpy="0 0 0" xyz="-0.104916 0.137658 0.013403"/>
    <geometry>
      <mesh filename="meshes/servo_v1_11.stl" scale="0.001 0.001 0.001"/>
    </geometry>
    <material name="silver"/>
    <material/>
  </visual>
  <collision concave="yes">
    <origin rpy="0 0 0" xyz="-0.104916 0.137658 0.013403"/>
    <geometry>
      <mesh filename="meshes/servo_v1_11.stl" scale="0.001 0.001 0.001"/>
    </geometry>
  </collision>
</link>

<joint name="Rev7" type="revolute">
  <origin rpy="0 0 0" xyz="-0.00587 -0.01631 0.034578"/>
  <parent link="servo_v1_11"/>
  <child link="darwin_SP0-5_Dfaut_v1_11"/>
  <axis xyz="-0.0 -1.0 0.0"/>
  <limit effort="1000" lower="-3.141" upper="3.141" velocity="5"/>
  <dynamics damping="0.7"/>
</joint>
<!-- <transmission name="Rev7_tran">
  <type>transmission_interface/SimpleTransmission</type>
  <joint name="Rev7">
    <hardwareInterface>PositionJointInterface</hardwareInterface>
  </joint>
  <actuator name="Rev7_actr">
    <hardwareInterface>PositionJointInterface</hardwareInterface>
    <mechanicalReduction>1</mechanicalReduction>
  </actuator>
</transmission> -->

<joint name="Rev8" type="revolute">
  <origin rpy="0 0 0" xyz="0.005875 -0.01631 0.034578"/>
  <parent link="servo_v11"/>
  <child link="darwin_SP0-5_Dfaut_v11"/>
  <axis xyz="-0.0 -1.0 0.0"/>
  <limit effort="1000" lower="-3.141" upper="3.141" velocity="5"/>
  <dynamics damping="0.7"/>
</joint>
<!-- <transmission name="Rev8_tran">
  <type>transmission_interface/SimpleTransmission</type>
  <joint name="Rev8">
    <hardwareInterface>PositionJointInterface</hardwareInterface>
  </joint>
  <actuator name="Rev8_actr">
    <hardwareInterface>PositionJointInterface</hardwareInterface>
    <mechanicalReduction>1</mechanicalReduction>
  </actuator>
</transmission> -->

<joint name="Rigid11" type="fixed">
  <origin rpy="0 0 0" xyz="0.006 -0.035632 -0.062074"/>
  <parent link="puru_returns_Component6_v31"/>
  <child link="darwin_SP0-5_Dfaut_v1_21"/>
</joint>

<joint name="Rev12" type="revolute">
  <origin rpy="0 0 0" xyz="-0.006955 0.031899 -0.1881"/>
  <parent link="darwin_SP0-5_Dfaut_v1_21"/>
  <child link="servo_v1_21"/>
  <axis xyz="-0.0 0.0 1.0"/>
  <limit effort="1000" lower="-3.141" upper="3.141" velocity="5"/>
  <dynamics damping="0.7"/>
</joint>
<!-- <transmission name="Rev12_tran">
  <type>transmission_interface/SimpleTransmission</type>
  <joint name="Rev12">
    <hardwareInterface>PositionJointInterface</hardwareInterface>
  </joint>
  <actuator name="Rev12_actr">
    <hardwareInterface>PositionJointInterface</hardwareInterface>
    <mechanicalReduction>1</mechanicalReduction>
  </actuator>
</transmission> -->

<joint name="Rigid13" type="fixed">
  <origin rpy="0 0 0" xyz="0.006 -0.035632 -0.062074"/>
  <parent link="puru_returns_Component6_v3_11"/>
  <child link="darwin_SP0-5_Dfaut_v1_31"/>
</joint>

<joint name="Rev14" type="revolute">
  <origin rpy="0 0 0" xyz="0.093045 0.031899 -0.1881"/>
  <parent link="darwin_SP0-5_Dfaut_v1_31"/>
  <child link="servo_v1_31"/>
  <axis xyz="-0.0 0.0 1.0"/>
  <limit effort="1000" lower="-3.141" upper="3.141" velocity="5"/>
  <dynamics damping="0.7"/>
</joint>
<!-- <transmission name="Rev14_tran">
  <type>transmission_interface/SimpleTransmission</type>
  <joint name="Rev14">
    <hardwareInterface>PositionJointInterface</hardwareInterface>
  </joint>
  <actuator name="Rev14_actr">
    <hardwareInterface>PositionJointInterface</hardwareInterface>
    <mechanicalReduction>1</mechanicalReduction>
  </actuator>
</transmission> -->

<joint name="Rigid16" type="fixed">
  <origin rpy="0 0 0" xyz="-0.033623 -0.026029 0.20616"/>
  <parent link="servo_v1_21"/>
  <child link="New_comp_v31"/>
</joint>

<joint name="Rigid17" type="fixed">
  <origin rpy="0 0 0" xyz="0.017693 0.008351 0.045045"/>
  <parent link="New_comp_v31"/>
  <child link="servo_v1_41"/>
</joint>

<joint name="Rev18" type="revolute">
  <origin rpy="0 0 0" xyz="0.019956 0.009749 0.183732"/>
  <parent link="servo_v1_41"/>
  <child link="darwin_SP0-5_Dfaut_v1_41"/>
  <axis xyz="-1.0 0.0 -0.0"/>
  <limit effort="1000" lower="-3.141" upper="3.141" velocity="5"/>
  <dynamics damping="0.7"/>
</joint>
<!-- <transmission name="Rev18_tran">
  <type>transmission_interface/SimpleTransmission</type>
  <joint name="Rev18">
    <hardwareInterface>PositionJointInterface</hardwareInterface>
  </joint>
  <actuator name="Rev18_actr">
    <hardwareInterface>PositionJointInterface</hardwareInterface>
    <mechanicalReduction>1</mechanicalReduction>
  </actuator>
</transmission> -->

<joint name="Rigid19" type="fixed">
  <origin rpy="0 0 0" xyz="-0.035266 -0.023972 -0.195602"/>
  <parent link="darwin_SP0-5_Dfaut_v1_41"/>
  <child link="New_Component_v21Component171"/>
</joint>

<joint name="Rigid20" type="fixed">
  <origin rpy="0 0 0" xyz="0.365635 -0.112513 0.039108"/>
  <parent link="New_Component_v21Component171"/>
  <child link="darwin_SP0-5_Dfaut_v1_51"/>
</joint>

<joint name="Rev21" type="revolute">
  <origin rpy="0 0 0" xyz="-0.064725 -0.01959 -0.063298"/>
  <parent link="darwin_SP0-5_Dfaut_v1_51"/>
  <child link="servo_v1_51"/>
  <axis xyz="-1.0 0.0 -0.0"/>
  <limit effort="1000" lower="-3.141" upper="3.141" velocity="5"/>
  <dynamics damping="0.7"/>
</joint>
<!-- <transmission name="Rev21_tran">
  <type>transmission_interface/SimpleTransmission</type>
  <joint name="Rev21">
    <hardwareInterface>PositionJointInterface</hardwareInterface>
  </joint>
  <actuator name="Rev21_actr">
    <hardwareInterface>PositionJointInterface</hardwareInterface>
    <mechanicalReduction>1</mechanicalReduction>
  </actuator>
</transmission> -->

<joint name="Rigid22" type="fixed">
  <origin rpy="0 0 0" xyz="-0.2846 0.036517 0.036019"/>
  <parent link="servo_v1_51"/>
  <child link="puru_returns_Component3_Copy_v11"/>
</joint>

<joint name="Rigid23" type="fixed">
  <origin rpy="0 0 0" xyz="-0.015856 -0.118222 -0.00587"/>
  <parent link="puru_returns_Component3_Copy_v11"/>
  <child link="darwin_SP0-5_Dfaut_v1_61"/>
</joint>

<joint name="Rev24" type="revolute">
  <origin rpy="0 0 0" xyz="0.41091 -0.035695 0.022295"/>
  <parent link="darwin_SP0-5_Dfaut_v1_61"/>
  <child link="servo_v1_61"/>
  <axis xyz="-1.0 0.0 -0.0"/>
  <limit effort="1000" lower="-3.141" upper="3.141" velocity="5"/>
  <dynamics damping="0.7"/>
</joint>
<!-- <transmission name="Rev24_tran">
  <type>transmission_interface/SimpleTransmission</type>
  <joint name="Rev24">
    <hardwareInterface>PositionJointInterface</hardwareInterface>
  </joint>
  <actuator name="Rev24_actr">
    <hardwareInterface>PositionJointInterface</hardwareInterface>
    <mechanicalReduction>1</mechanicalReduction>
  </actuator>
</transmission> -->

<joint name="Rigid26" type="fixed">
  <origin rpy="0 0 0" xyz="0.009615 -0.056093 0.407589"/>
  <parent link="testing_Component2_Copy_v11Component241"/>
  <child link="darwin_SP0-5_Dfaut_v1_71"/>
</joint>

<joint name="Rev27" type="revolute">
  <origin rpy="0 0 0" xyz="-0.006 0.028 -0.018743"/>
  <parent link="darwin_SP0-5_Dfaut_v1_71"/>
  <child link="servo_v1_71"/>
  <axis xyz="-0.0 0.0 -1.0"/>
  <limit effort="1000" lower="-3.141" upper="3.141" velocity="5"/>
  <dynamics damping="0.7"/>
</joint>
<!-- <transmission name="Rev27_tran">
  <type>transmission_interface/SimpleTransmission</type>
  <joint name="Rev27">
    <hardwareInterface>PositionJointInterface</hardwareInterface>
  </joint>
  <actuator name="Rev27_actr">
    <hardwareInterface>PositionJointInterface</hardwareInterface>
    <mechanicalReduction>1</mechanicalReduction>
  </actuator>
</transmission> -->

<joint name="Rigid28" type="fixed">
  <origin rpy="0 0 0" xyz="-0.007837 -0.000425 -0.424031"/>
  <parent link="servo_v1_71"/>
  <child link="puru_returns_Component1_v21"/>
</joint>

<joint name="Rigid29" type="fixed">
  <origin rpy="0 0 0" xyz="-0.3946 0.064272 -0.01642"/>
  <parent link="servo_v1_61"/>
  <child link="testing_Component2_Copy_v11Component241"/>
</joint>

<joint name="Rev33" type="revolute">
  <origin rpy="0 0 0" xyz="0.01393 -0.014222 0.00587"/>
  <parent link="servo_v1_81"/>
  <child link="darwin_SP0-5_Dfaut_v1_81"/>
  <axis xyz="1.0 -0.0 0.0"/>
  <limit effort="1000" lower="-3.141" upper="3.141" velocity="5"/>
  <dynamics damping="0.7"/>
</joint>
<!-- <transmission name="Rev33_tran">
  <type>transmission_interface/SimpleTransmission</type>
  <joint name="Rev33">
    <hardwareInterface>PositionJointInterface</hardwareInterface>
  </joint>
  <actuator name="Rev33_actr">
    <hardwareInterface>PositionJointInterface</hardwareInterface>
    <mechanicalReduction>1</mechanicalReduction>
  </actuator>
</transmission> -->

<joint name="Rigid35" type="fixed">
  <origin rpy="0 0 0" xyz="-0.064468 -0.026024 0.20441"/>
  <parent link="servo_v1_31"/>
  <child link="New_comp_mirror_v11"/>
</joint>

<joint name="Rigid36" type="fixed">
  <origin rpy="0 0 0" xyz="-0.017692 0.00835 0.033301"/>
  <parent link="New_comp_mirror_v11"/>
  <child link="servo_v1_81"/>
</joint>

<joint name="Rigid38" type="fixed">
  <origin rpy="0 0 0" xyz="0.326016 0.212166 -0.243382"/>
  <parent link="New_Component_v2_11Component311"/>
  <child link="darwin_SP0-5_Dfaut_v1_91"/>
</joint>

<joint name="Rev39" type="revolute">
  <origin rpy="0 0 0" xyz="-0.028111 -0.348515 0.370201"/>
  <parent link="darwin_SP0-5_Dfaut_v1_91"/>
  <child link="servo_v1_91"/>
  <axis xyz="-1.0 0.0 0.0"/>
  <limit effort="1000" lower="-3.141" upper="3.141" velocity="5"/>
  <dynamics damping="0.7"/>
</joint>
<!-- <transmission name="Rev39_tran">
  <type>transmission_interface/SimpleTransmission</type>
  <joint name="Rev39">
    <hardwareInterface>PositionJointInterface</hardwareInterface>
  </joint>
  <actuator name="Rev39_actr">
    <hardwareInterface>PositionJointInterface</hardwareInterface>
    <mechanicalReduction>1</mechanicalReduction>
  </actuator>
</transmission> -->

<joint name="Rigid40" type="fixed">
  <origin rpy="0 0 0" xyz="-0.314215 0.034762 -0.13273"/>
  <parent link="servo_v1_91"/>
  <child link="puru_returns_Component3_Copy_mirror_v11"/>
</joint>

<joint name="Rigid41" type="fixed">
  <origin rpy="0 0 0" xyz="-0.759817 -0.134677 0.13528"/>
  <parent link="puru_returns_Component3_Copy_mirror_v11"/>
  <child link="darwin_SP0-5_Dfaut_v1_111"/>
</joint>

<joint name="Rev42" type="revolute">
  <origin rpy="0 0 0" xyz="0.772672 0.010455 -0.129406"/>
  <parent link="darwin_SP0-5_Dfaut_v1_111"/>
  <child link="servo_v1_101"/>
  <axis xyz="-1.0 0.0 -0.0"/>
  <limit effort="1000" lower="-3.141" upper="3.141" velocity="5"/>
  <dynamics damping="0.7"/>
</joint>
<!-- <transmission name="Rev42_tran">
  <type>transmission_interface/SimpleTransmission</type>
  <joint name="Rev42">
    <hardwareInterface>PositionJointInterface</hardwareInterface>
  </joint>
  <actuator name="Rev42_actr">
    <hardwareInterface>PositionJointInterface</hardwareInterface>
    <mechanicalReduction>1</mechanicalReduction>
  </actuator>
</transmission> -->

<joint name="Rigid43" type="fixed">
  <origin rpy="0 0 0" xyz="-0.01631 0.036293 0.007082"/>
  <parent link="servo_v1_101"/>
  <child link="testing_Component2__mirror_v11"/>
</joint>

<joint name="Rigid44" type="fixed">
  <origin rpy="0 0 0" xyz="-0.057283 -0.056636 0.40587"/>
  <parent link="testing_Component2__mirror_v11"/>
  <child link="darwin_SP0-5_Dfaut_v1_121"/>
</joint>

<joint name="Rigid45" type="fixed">
  <origin rpy="0 0 0" xyz="0.0 0.006 0.0"/>
  <parent link="darwin_SP0-5_Dfaut_v1_81"/>
  <child link="New_Component_v2_11Component311"/>
</joint>

<joint name="Rev46" type="revolute">
  <origin rpy="0 0 0" xyz="0.053035 -0.077849 -0.018744"/>
  <parent link="darwin_SP0-5_Dfaut_v1_121"/>
  <child link="servo_v1_111"/>
  <axis xyz="-0.0 0.0 -1.0"/>
  <limit effort="1000" lower="-3.141" upper="3.141" velocity="5"/>
  <dynamics damping="0.7"/>
</joint>
<!-- <transmission name="Rev46_tran">
  <type>transmission_interface/SimpleTransmission</type>
  <joint name="Rev46">
    <hardwareInterface>PositionJointInterface</hardwareInterface>
  </joint>
  <actuator name="Rev46_actr">
    <hardwareInterface>PositionJointInterface</hardwareInterface>
    <mechanicalReduction>1</mechanicalReduction>
  </actuator>
</transmission> -->

<joint name="Rigid47" type="fixed">
  <origin rpy="0 0 0" xyz="0.028826 0.105967 -0.423311"/>
  <parent link="servo_v1_111"/>
  <child link="puru_returns_Component1_mirror_v11"/>
</joint>

<joint name="Rigid53" type="fixed">
  <origin rpy="0 0 0" xyz="0.0 0.0 0.006"/>
  <parent link="darwin_SP0-5_Dfaut_v11"/>
  <child link="puru_returns_Component6_v31"/>
</joint>

<joint name="Rigid55" type="fixed">
  <origin rpy="0 0 0" xyz="0.0 0.0 0.006"/>
  <parent link="darwin_SP0-5_Dfaut_v1_11"/>
  <child link="puru_returns_Component6_v3_11"/>
</joint>

<joint name="Rigid56" type="fixed">
  <origin rpy="0 0 0" xyz="-0.006829 -0.137658 -0.013403"/>
  <parent link="base_link"/>
  <child link="servo_v11"/>
</joint>

<joint name="Rigid57" type="fixed">
  <origin rpy="0 0 0" xyz="0.104916 -0.137658 -0.013403"/>
  <parent link="base_link"/>
  <child link="servo_v1_11"/>
</joint>

</robot>
